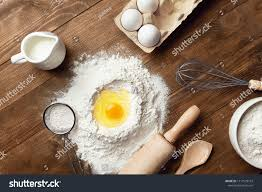Eggs: (118, 6, 166, 42)
